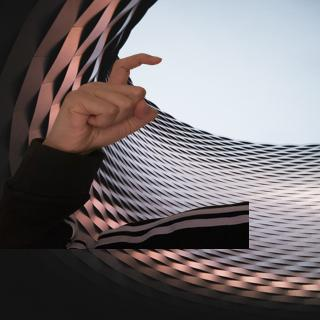WHY: (42, 47, 168, 157)
